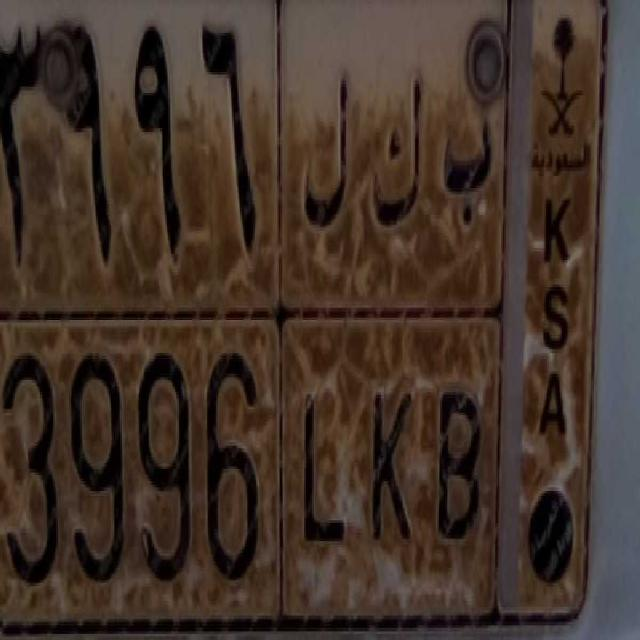license_plate: (0, 313, 492, 619)
